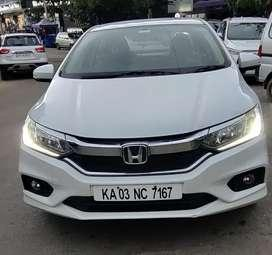KA03NC7167: (92, 182, 181, 199)
